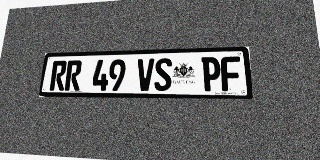4: (92, 59, 110, 91)
9: (108, 59, 126, 91)
F: (221, 56, 242, 91)
P: (201, 57, 221, 91)
R: (64, 60, 82, 91), (49, 61, 67, 90)
S: (154, 58, 172, 91)
V: (136, 58, 154, 91)
